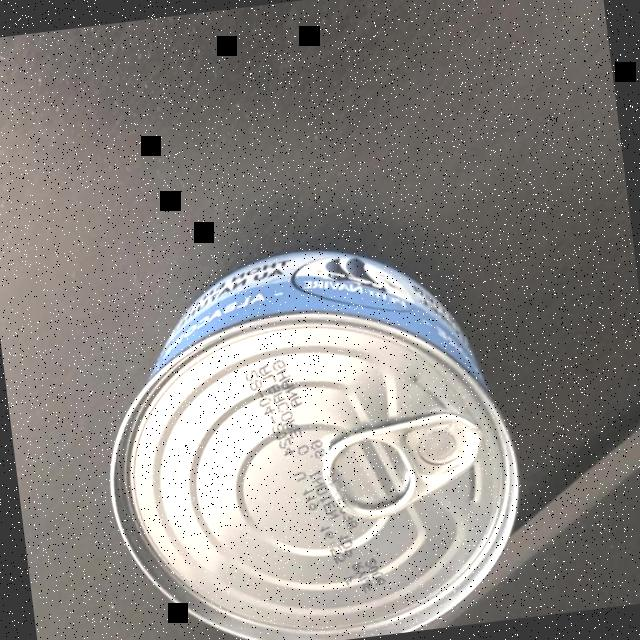can: (80, 223, 538, 640)
